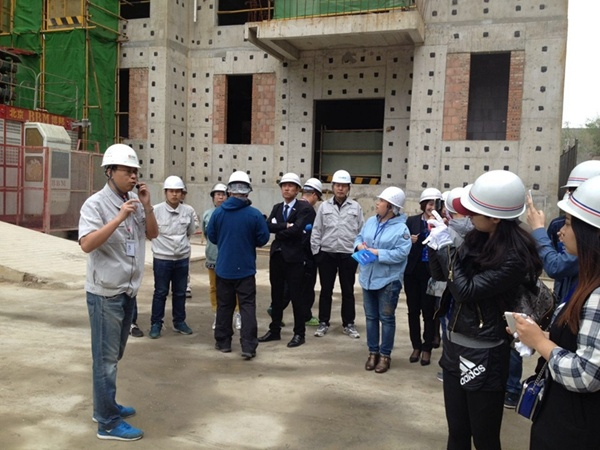white: (460, 169, 529, 234), (556, 175, 600, 258), (99, 144, 141, 195), (373, 185, 407, 218), (228, 169, 252, 200), (161, 175, 185, 205), (445, 189, 467, 221), (419, 186, 442, 216), (278, 171, 302, 199), (330, 169, 352, 199), (301, 178, 324, 206), (209, 184, 228, 206)
